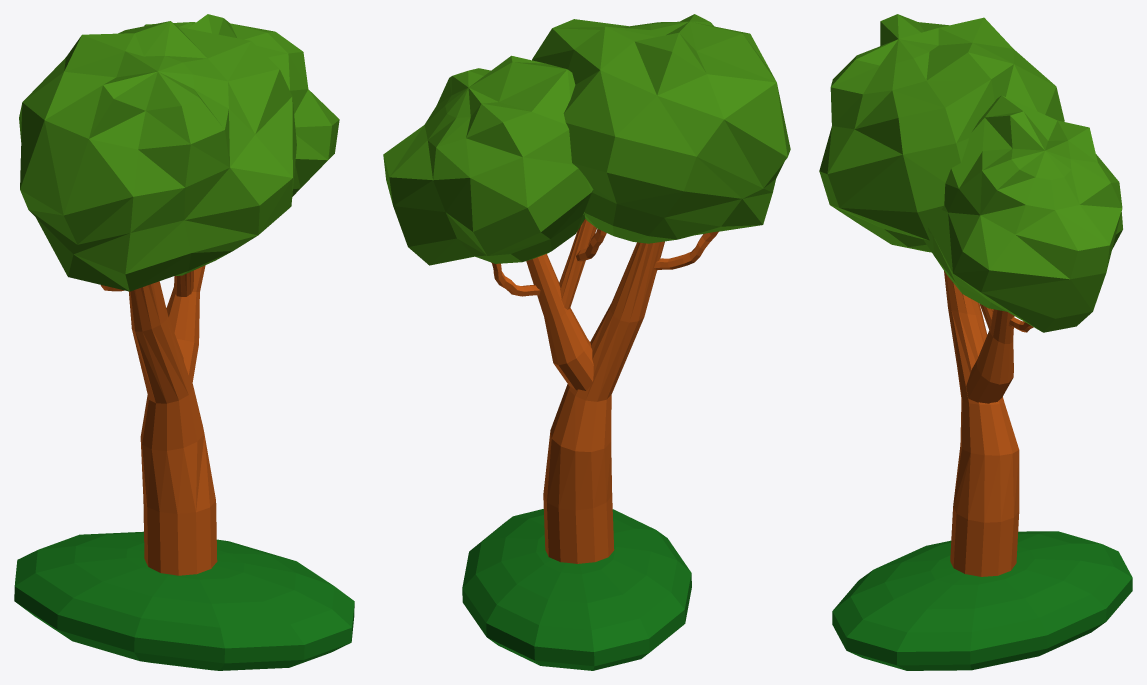
Rendered from tree.obj.
3 views of the same model, side by side, from view 1: azimuth 30°, elevation 25°; view 2: azimuth 150°, elevation 25°; view 3: azimuth 270°, elevation 25° (orthographic). The views are drawn at different scales.
Parts seen in each view (by area): view 1: group637853614, group55681193, group2079528281, group136233506, group339412937; view 2: group637853614, group136233506, group55681193, group2079528281, group339412937, group932203000, group161408949, group1991824997; view 3: group136233506, group637853614, group55681193, group2079528281, group339412937.
Boxes of the visible parts, x1,y1,x2,y2 form: group637853614: (19,21,296,291); group55681193: (14,531,354,670); group2079528281: (128,281,217,575); group136233506: (144,14,339,196); group339412937: (166,265,205,383); group637853614: (532,14,790,243); group136233506: (383,55,593,265); group55681193: (462,509,691,670); group2079528281: (543,241,664,563); group339412937: (526,254,593,390); group932203000: (559,219,596,309); group161408949: (654,231,718,270); group1991824997: (491,262,540,296); group136233506: (923,95,1122,332); group637853614: (819,14,1064,252); group55681193: (832,531,1132,670); group2079528281: (944,271,1019,576); group339412937: (966,309,1014,403).
Size of the model in its own units: 1 by 1.73 by 0.8496.
